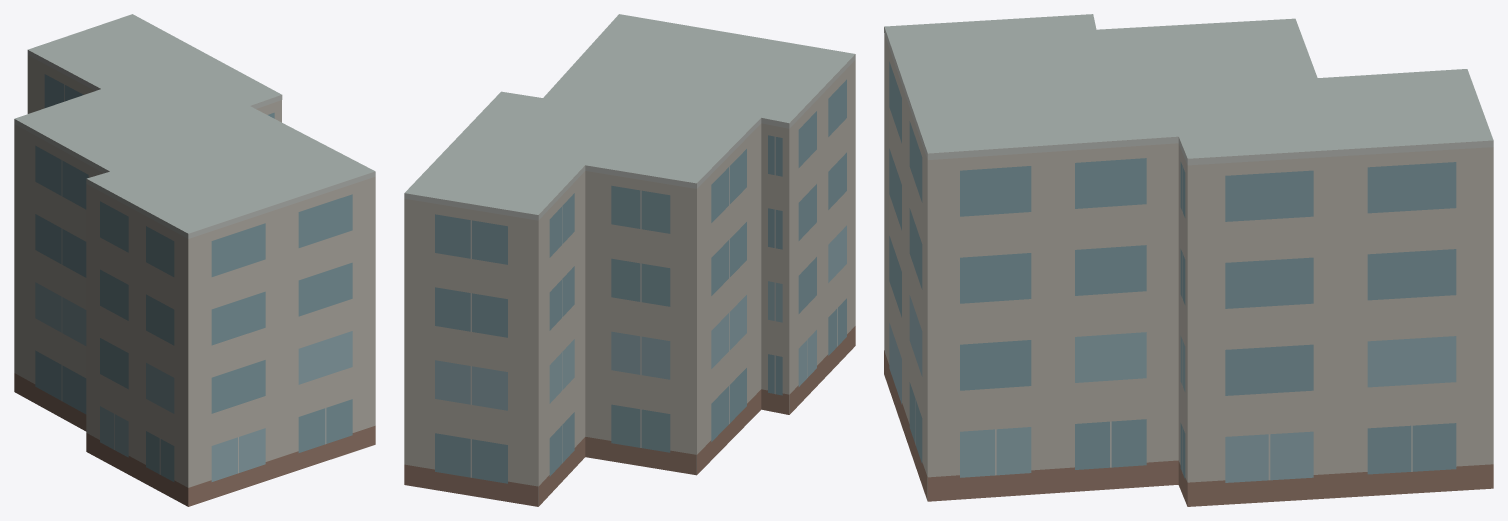
File: survey-upis-32609901.glb
3 views of the same model, side by side, from view 1: azimuth 30°, elevation 25°; view 2: azimuth 150°, elevation 25°; view 3: azimuth 270°, elevation 25° (orthographic). The views are drawn at different scales.
Visible parts, largest first — view 1: survey-upis-32609901.tmp; view 2: survey-upis-32609901.tmp; view 3: survey-upis-32609901.tmp.
Boxes of the visible parts, x1,y1,x2,y2 form: survey-upis-32609901.tmp: (14, 14, 375, 506); survey-upis-32609901.tmp: (404, 14, 855, 506); survey-upis-32609901.tmp: (884, 14, 1493, 506).
Bounding box in the file's own units: 11.43 × 12.8 × 20.32.
